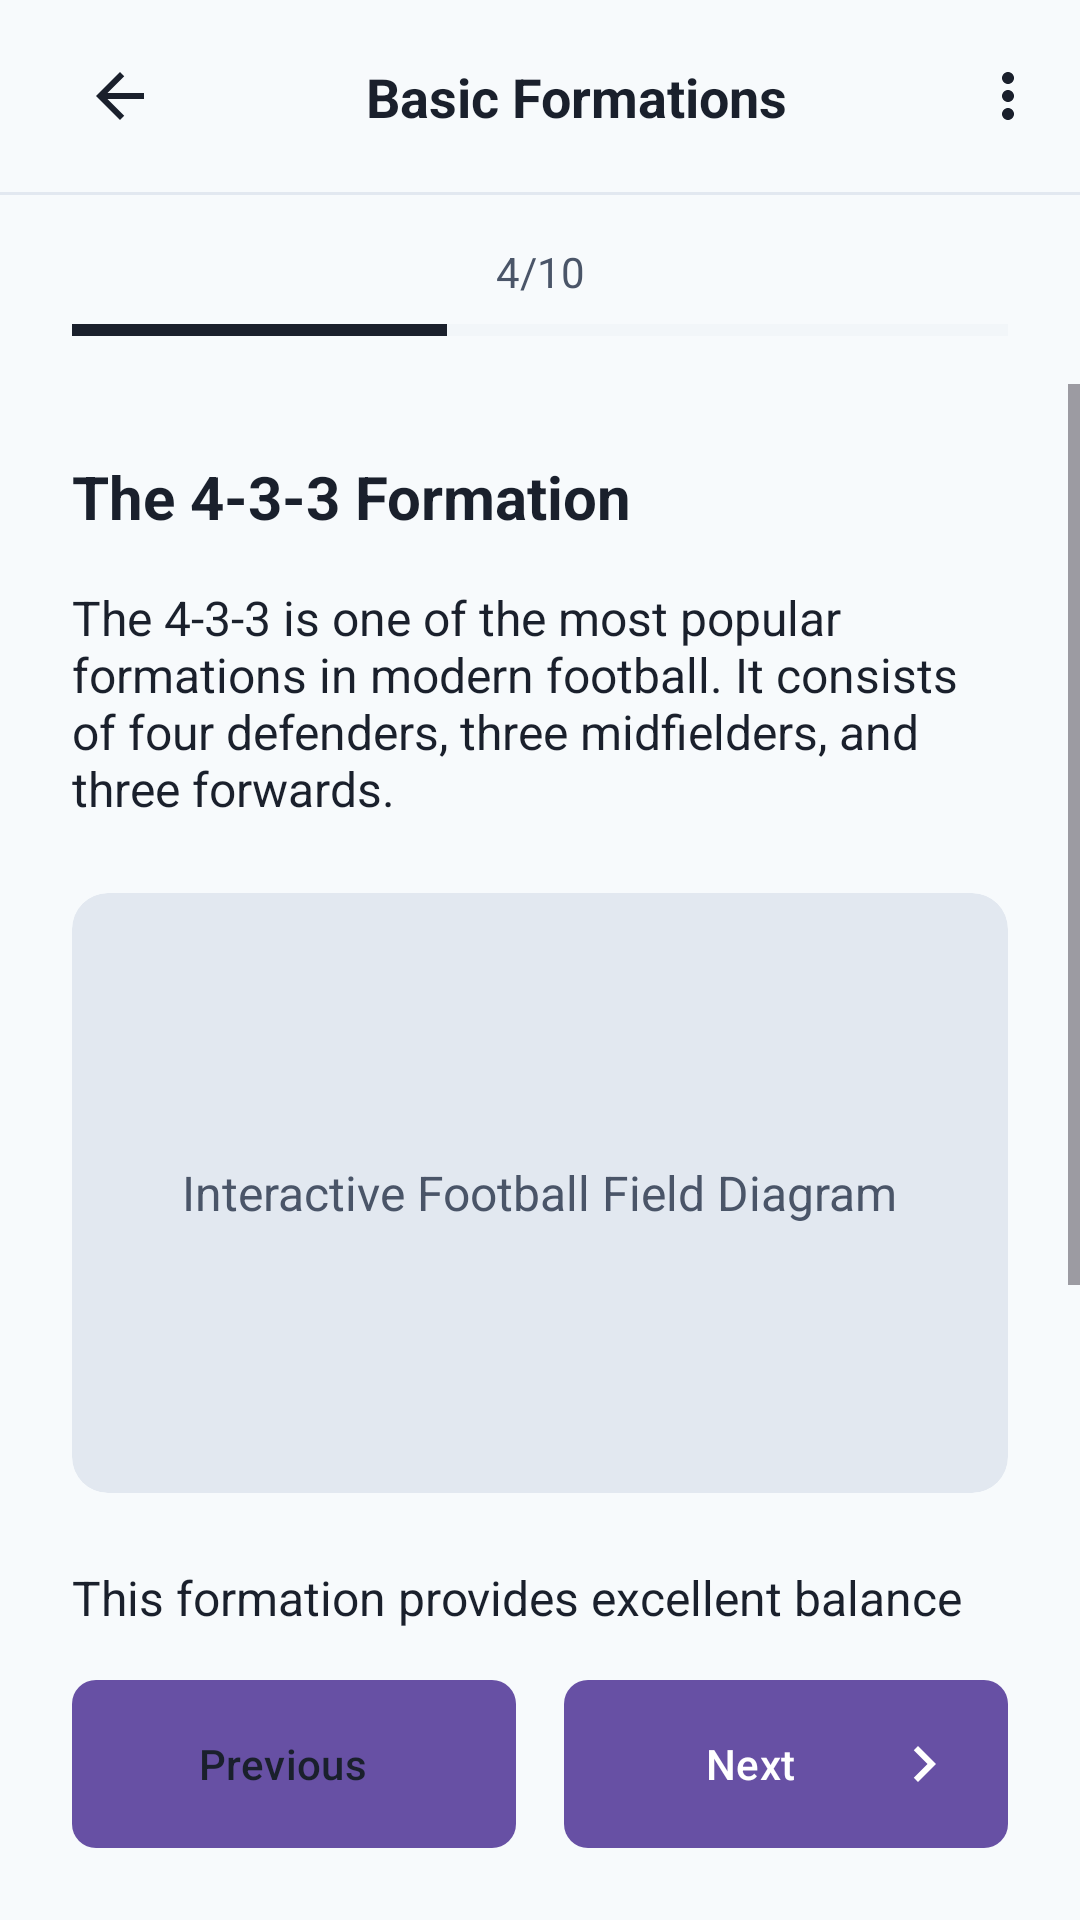

Screen size 1080px x 1920px. Icon name, then its box in pixels as [x1,y1,x2,y2]:
Back: [96,72,144,120]
Menu: [1002,72,1014,120]
